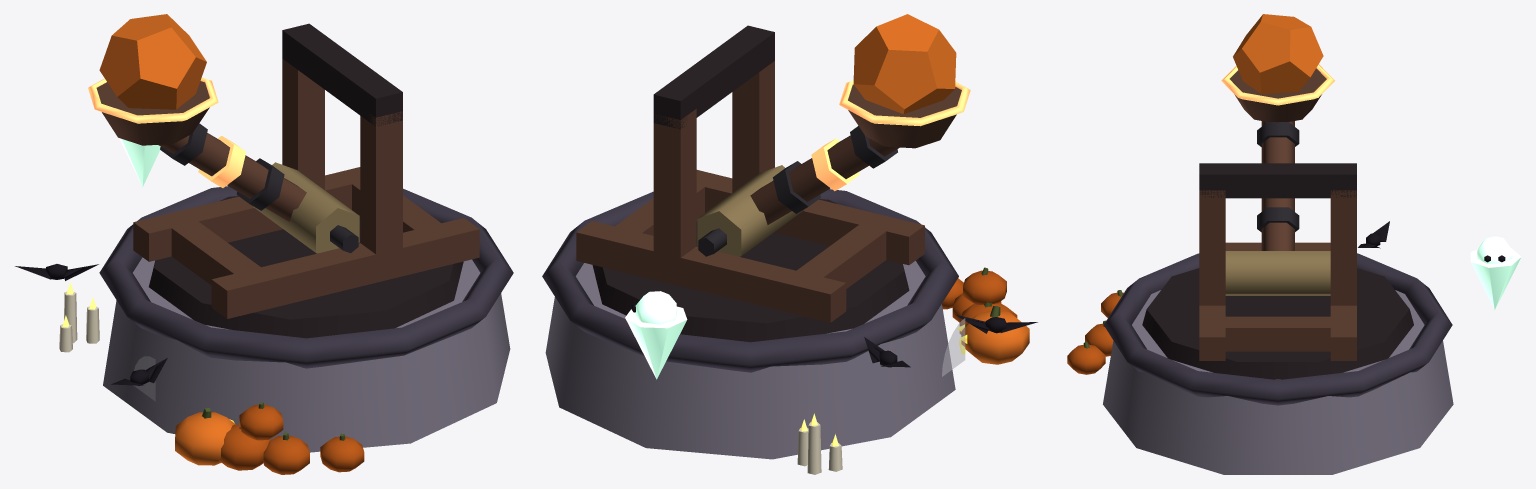
The model's file is tower_catapult_siege.glb.
3 views of the same model, side by side, from view 1: azimuth 30°, elevation 25°; view 2: azimuth 150°, elevation 25°; view 3: azimuth 270°, elevation 25° (orthographic). The views are drawn at different scales.
Visible parts, largest first — view 1: base, base_rim, turntable, rail_l, stone_0, stop_bar, upright_l, rail_r, upright_r, cross_w, torsion_rope, basket_0 (+12 smaller); view 2: base, base_rim, turntable, rail_r, stone_0, upright_r, stop_bar, rail_l, cross_w, upright_l, torsion_rope, basket_0 (+11 smaller); view 3: base, turntable, base_rim, stop_bar, stone_0, torsion_rope, cross_e, upright_l, upright_r, arm_beam, basket_0, arm (+8 smaller).
Part boxes in pixels (x1,y1,x2,y2): base: [103, 257, 510, 452]; base_rim: [99, 186, 513, 368]; turntable: [149, 196, 463, 338]; rail_l: [211, 218, 479, 318]; stone_0: [99, 14, 206, 109]; stop_bar: [282, 23, 402, 126]; upright_l: [360, 111, 402, 255]; rail_r: [133, 167, 360, 261]; upright_r: [282, 59, 324, 189]; cross_w: [156, 210, 276, 312]; torsion_rope: [253, 162, 359, 253]; basket_0: [96, 81, 209, 145]; base: [545, 261, 955, 459]; base_rim: [542, 189, 958, 372]; turntable: [592, 199, 909, 342]; rail_r: [576, 221, 846, 322]; stone_0: [853, 14, 956, 114]; upright_r: [653, 109, 696, 262]; stop_bar: [653, 25, 774, 129]; rail_l: [696, 170, 924, 265]; cross_w: [780, 213, 901, 317]; upright_l: [732, 61, 774, 192]; torsion_rope: [697, 165, 803, 256]; basket_0: [848, 84, 961, 148]; base: [1103, 290, 1453, 474]; turntable: [1142, 268, 1413, 379]; base_rim: [1104, 253, 1452, 405]; stop_bar: [1199, 163, 1356, 198]; stone_0: [1233, 14, 1323, 94]; torsion_rope: [1225, 251, 1330, 295]; cross_e: [1199, 316, 1356, 351]; upright_l: [1199, 190, 1225, 305]; upright_r: [1330, 190, 1356, 305]; arm_beam: [1261, 121, 1294, 250]; basket_0: [1230, 68, 1326, 122]; arm: [1257, 122, 1299, 232].
Bounding box in the file's own units: 0.4664 × 0.4058 × 0.5179.
